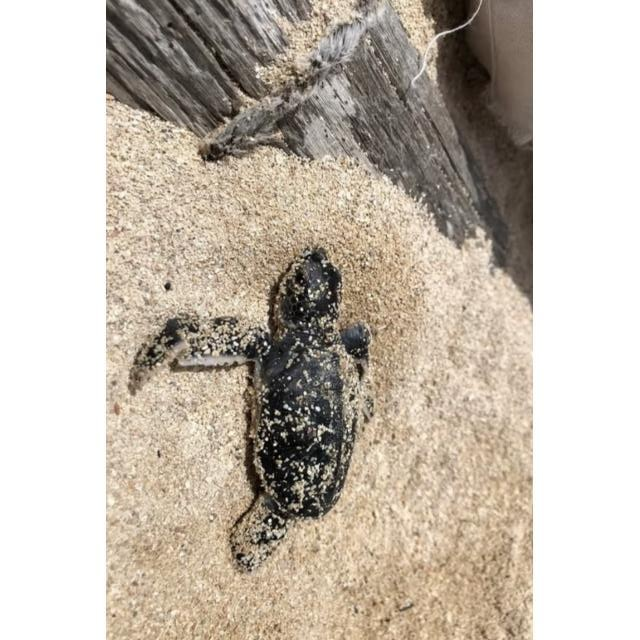turtle: (131, 247, 370, 570)
